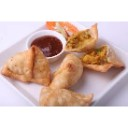samosa: (5, 45, 51, 85), (41, 82, 95, 106), (55, 54, 82, 90)
